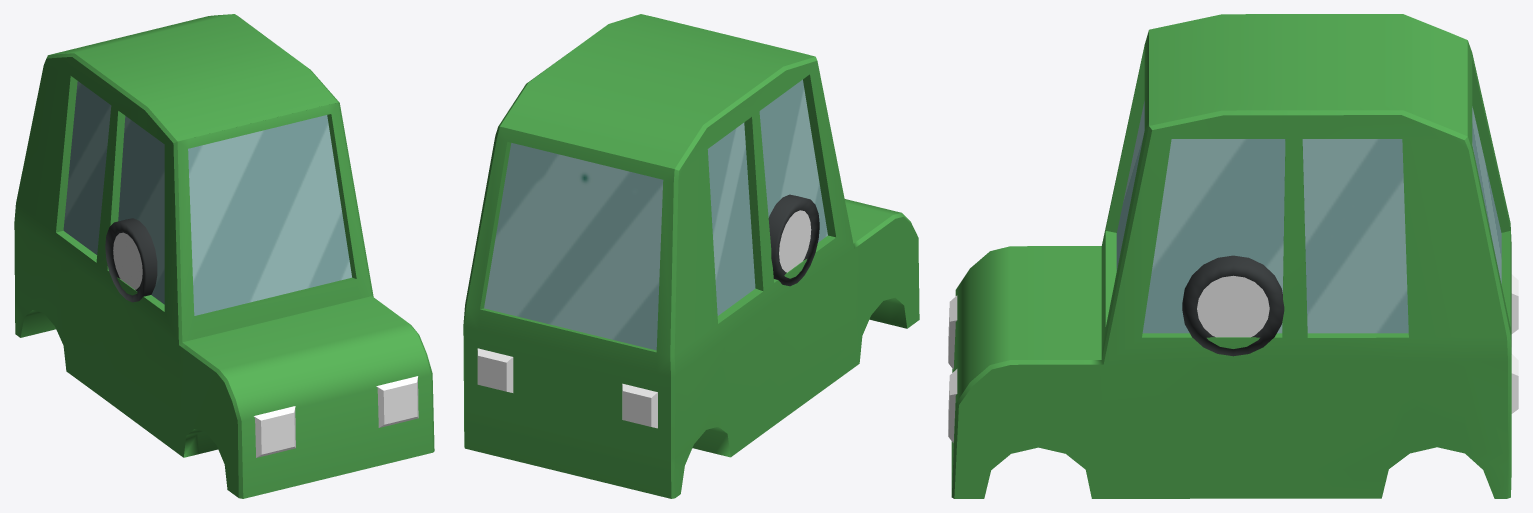
The model's file is car_1_G.fbx.
3 views of the same model, side by side, from view 1: azimuth 30°, elevation 25°; view 2: azimuth 150°, elevation 25°; view 3: azimuth 270°, elevation 25° (orthographic). The views are drawn at different scales.
Parts seen in each view (by area): view 1: car_1_chasis_G, car_1_right_wheel_G, car_1_back_wheel_G; view 2: car_1_chasis_G, car_1_right_wheel_G, car_1_back_wheel_G; view 3: car_1_chasis_G, car_1_back_wheel_G.
Part boxes in pixels (left/top/right/bottom): car_1_chasis_G: left=14, top=14, right=434, bottom=498; car_1_right_wheel_G: left=105, top=219, right=157, bottom=302; car_1_back_wheel_G: left=117, top=218, right=156, bottom=301; car_1_chasis_G: left=463, top=14, right=919, bottom=498; car_1_right_wheel_G: left=769, top=194, right=819, bottom=286; car_1_back_wheel_G: left=768, top=195, right=797, bottom=276; car_1_chasis_G: left=948, top=14, right=1518, bottom=498; car_1_back_wheel_G: left=1182, top=255, right=1284, bottom=356.
Bounding box in the file's own units: 76.29 × 115 × 157.
